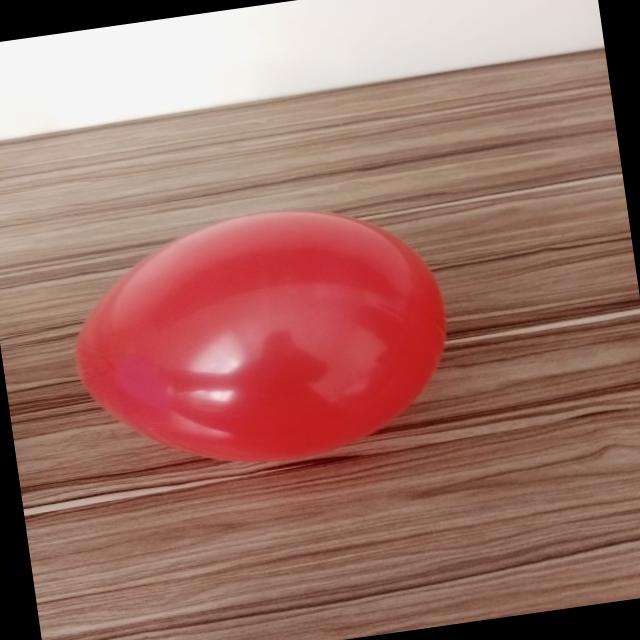balloon: (76, 211, 446, 462)
